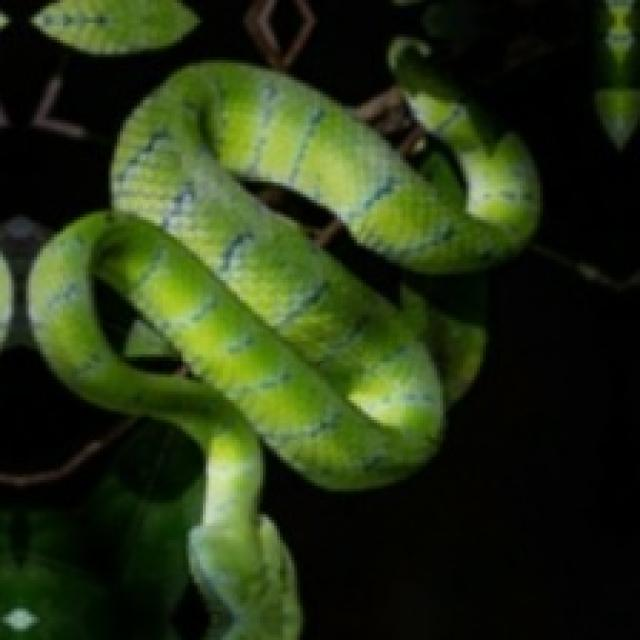north ph temple pitviper: (29, 40, 537, 637)
